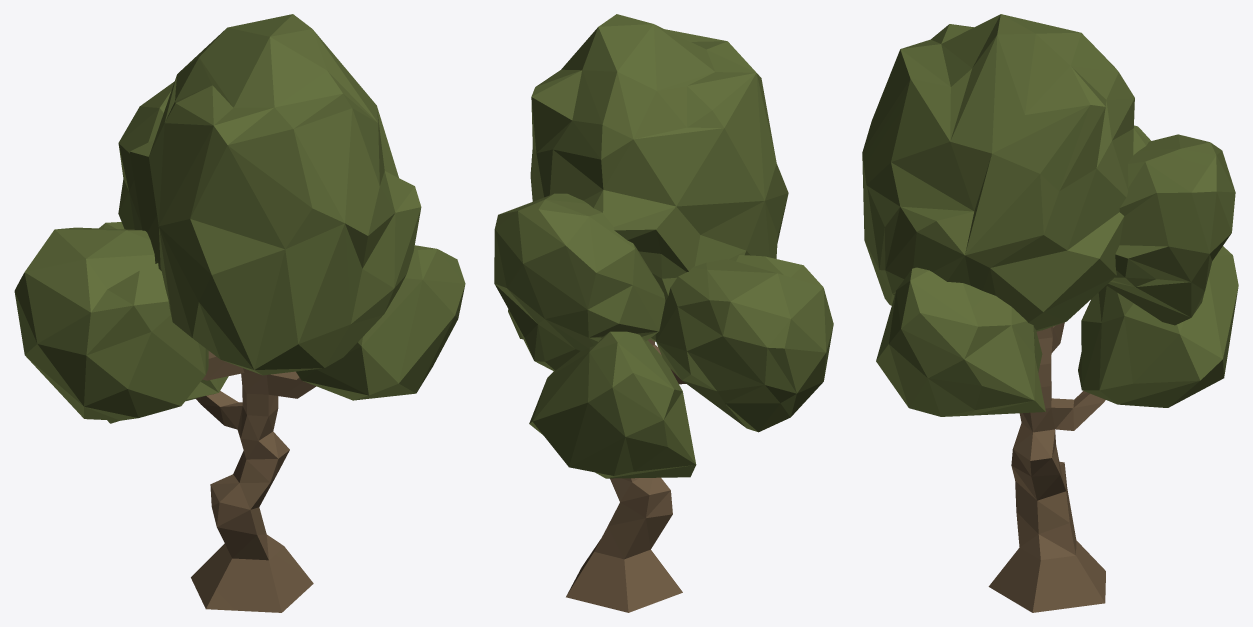
Rendered from SM_Env_Tree_Twisted_01.gltf.
The picture shows the model from 3 angles, left to right: view 1: azimuth 30°, elevation 25°; view 2: azimuth 150°, elevation 25°; view 3: azimuth 270°, elevation 25°; orthographic projection. The views are drawn at different scales.
Visible parts, largest first — view 1: SM_Env_Tree_Twisted_01; view 2: SM_Env_Tree_Twisted_01; view 3: SM_Env_Tree_Twisted_01.
Part boxes in pixels (x1=…): SM_Env_Tree_Twisted_01: x1=14, y1=14, x2=465, y2=612; SM_Env_Tree_Twisted_01: x1=494, y1=14, x2=833, y2=612; SM_Env_Tree_Twisted_01: x1=862, y1=14, x2=1238, y2=612.
Bounding box in the file's own units: 3.34 × 5.02 × 3.
1 material, 1 textured.
